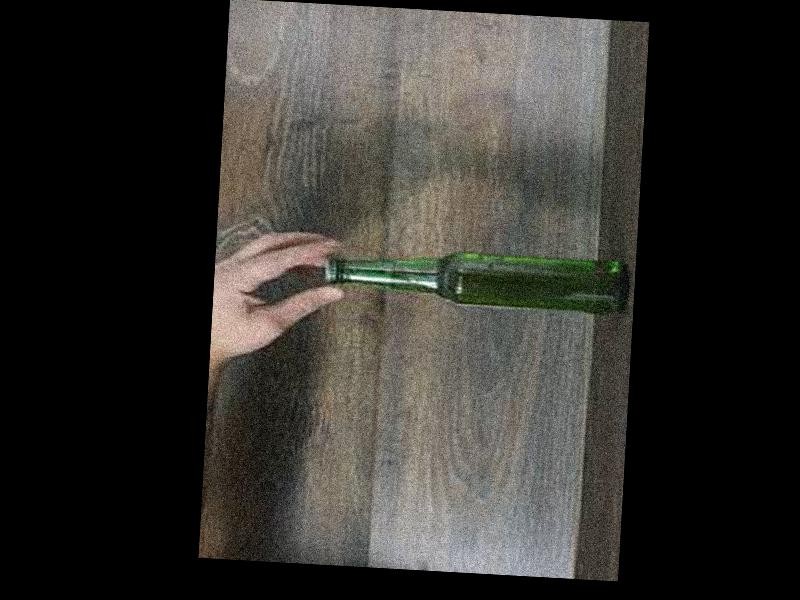Beer: (321, 245, 628, 316)
